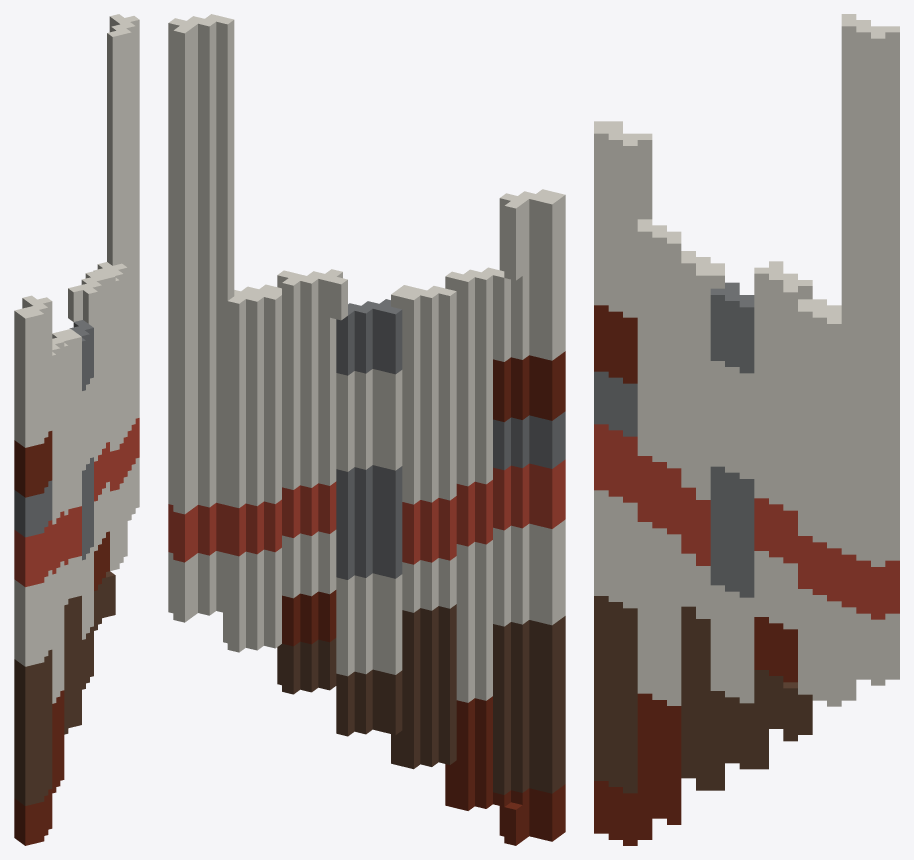
Rendered from abandoned_ambulance_rear_door_near.glb.
3 views of the same model, side by side, from view 1: azimuth 30°, elevation 25°; view 2: azimuth 150°, elevation 25°; view 3: azimuth 270°, elevation 25° (orthographic). The views are drawn at different scales.
Parts seen in each view (by area): view 1: body:compound; view 2: body:compound; view 3: body:compound.
Boxes of the visible parts, left/top/right/bottom form: body:compound: left=14, top=14, right=139, bottom=845; body:compound: left=168, top=14, right=565, bottom=845; body:compound: left=594, top=14, right=899, bottom=845.
Bounding box in the file's own units: 0.7188 × 2.19 × 0.6562.
